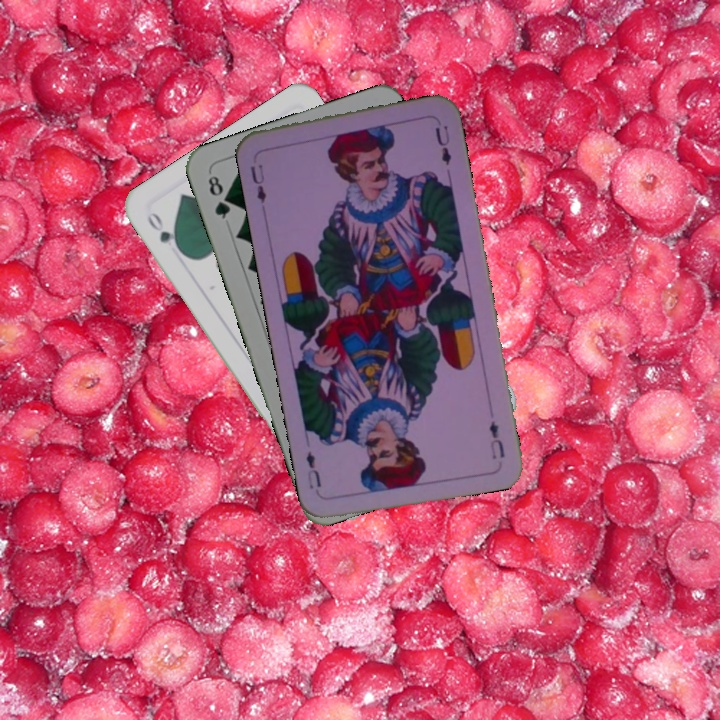EU: (246, 160, 269, 206), (485, 416, 507, 461)
G8: (204, 171, 233, 222)
GO: (142, 208, 186, 257)
